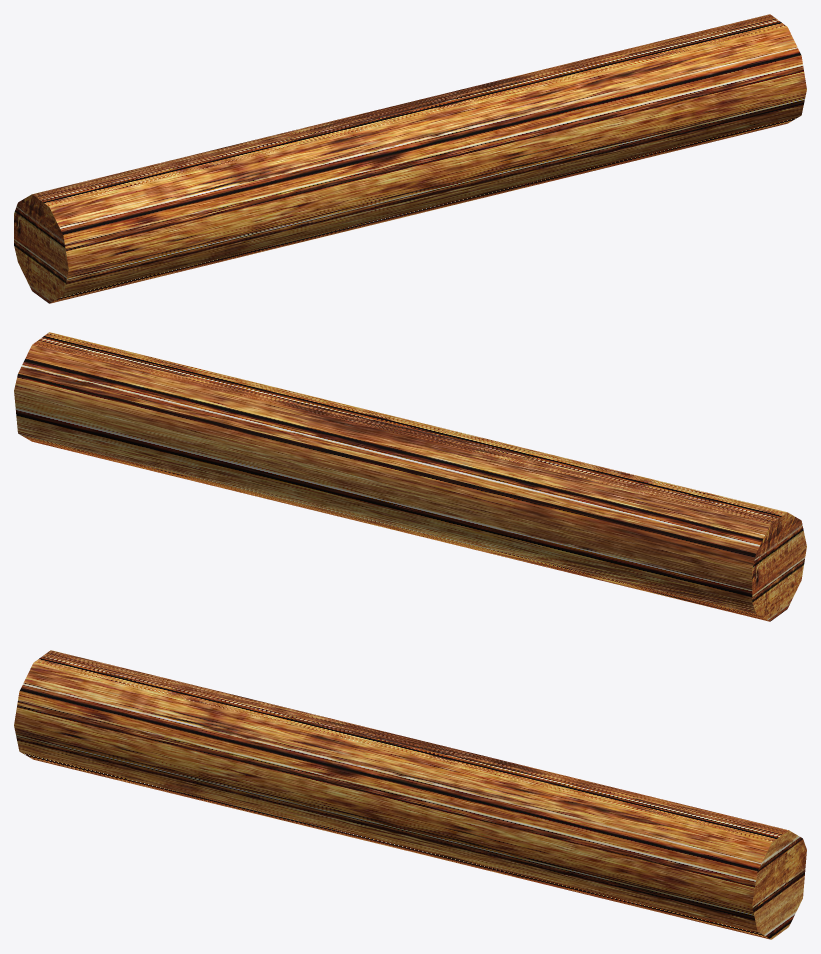
File: RuedaProyectorPicapiedras.obj
3 views of the same model, one above another, from view 1: azimuth 30°, elevation 25°; view 2: azimuth 150°, elevation 25°; view 3: azimuth 330°, elevation 25° (orthographic).
Parts seen in each view (by area): view 1: pasted__pasted__pasted__pCylinder3 pasted__pasted__group5 pasted; view 2: pasted__pasted__pasted__pCylinder3 pasted__pasted__group5 pasted; view 3: pasted__pasted__pasted__pCylinder3 pasted__pasted__group5 pasted.
Boxes of the visible parts, <box> form: pasted__pasted__pasted__pCylinder3 pasted__pasted__group5 pasted: <box>14,14,806,303</box>; pasted__pasted__pasted__pCylinder3 pasted__pasted__group5 pasted: <box>14,332,806,621</box>; pasted__pasted__pasted__pCylinder3 pasted__pasted__group5 pasted: <box>14,650,806,939</box>.
Size of the model in its own units: 472 by 59.19 by 60.71.
1 material, 1 textured.
